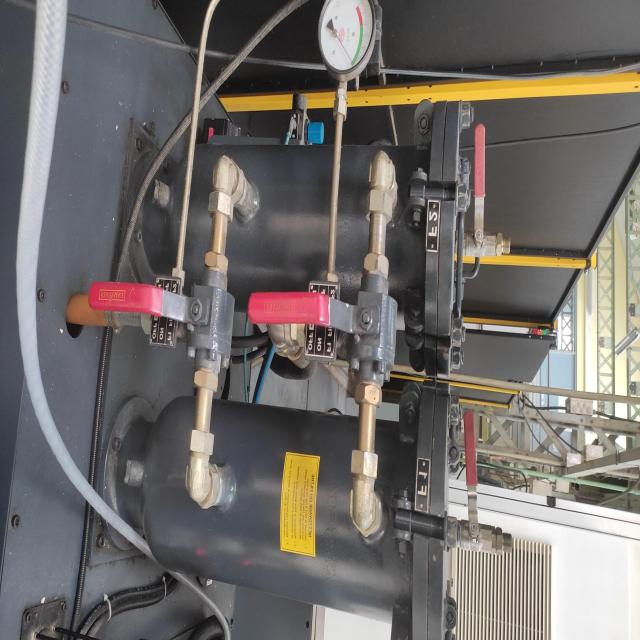closed_valve: (246, 253, 397, 409), (89, 250, 238, 396), (458, 408, 498, 554), (464, 122, 502, 267)
